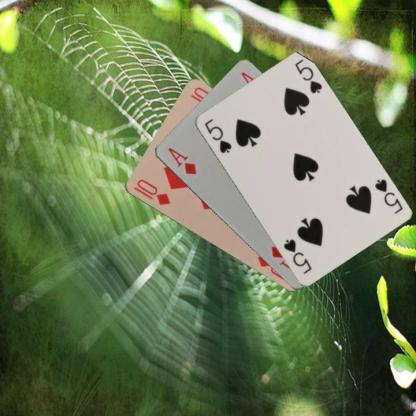10d: (131, 176, 171, 207)
5s: (371, 176, 404, 215), (202, 115, 233, 155)
Ad: (164, 145, 198, 177)
